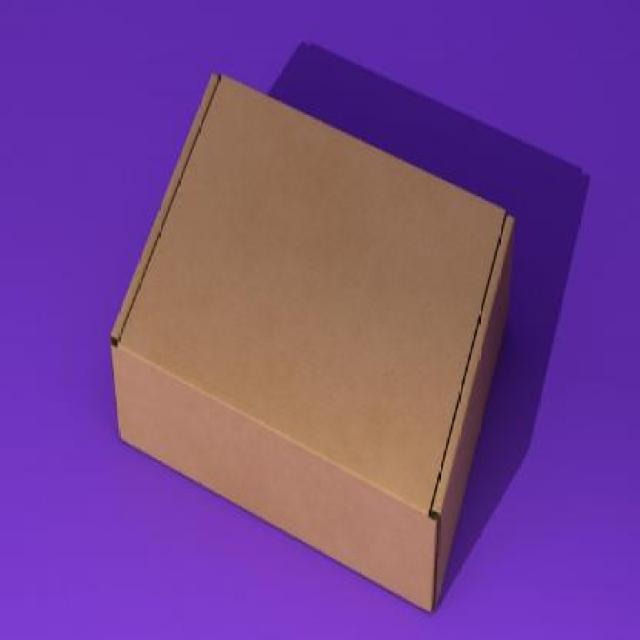box: (95, 57, 530, 630)
